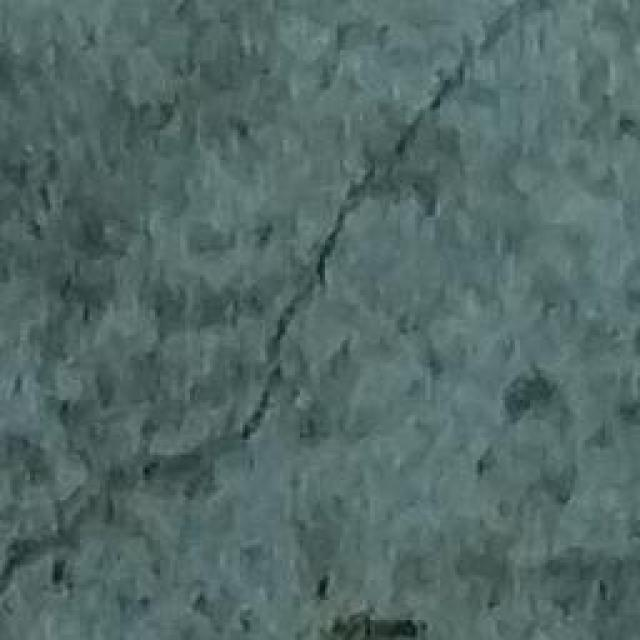Diagonal: (0, 0, 542, 560)
Rippled: (410, 165, 640, 640), (13, 6, 255, 391)
